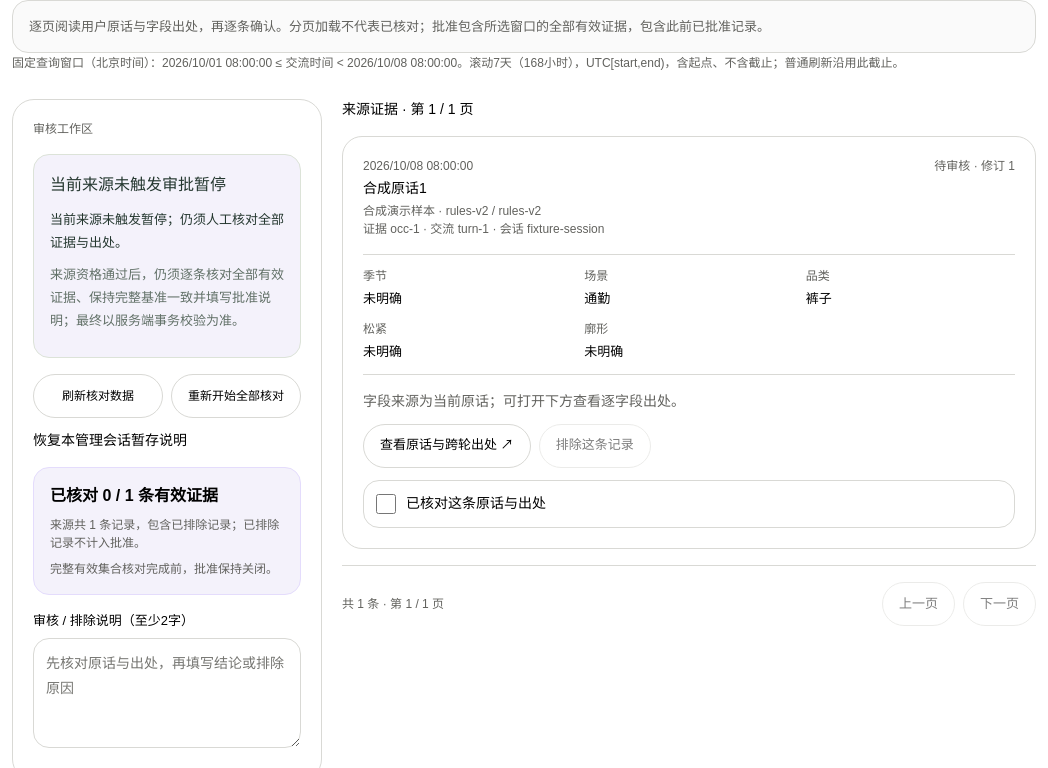
it: management context evidence review › only explicitly restores a note in the exact same context
Expected: the text "合成原话1" is shown, [363,180,427,196]
Expected: the text box is empty, [33,638,301,748]
Click the button "恢复本管理会话暂存说明" at (110, 440), box [33,430,187,451]
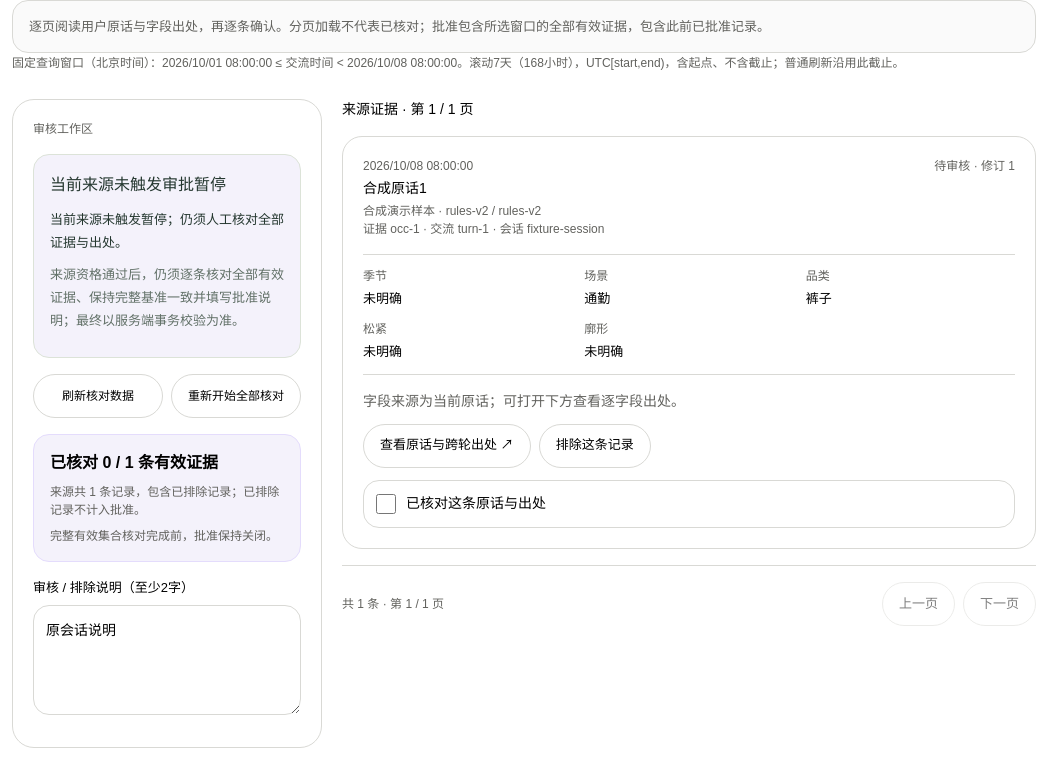
Expected: the text box holds "原会话说明", [33,605,301,715]
